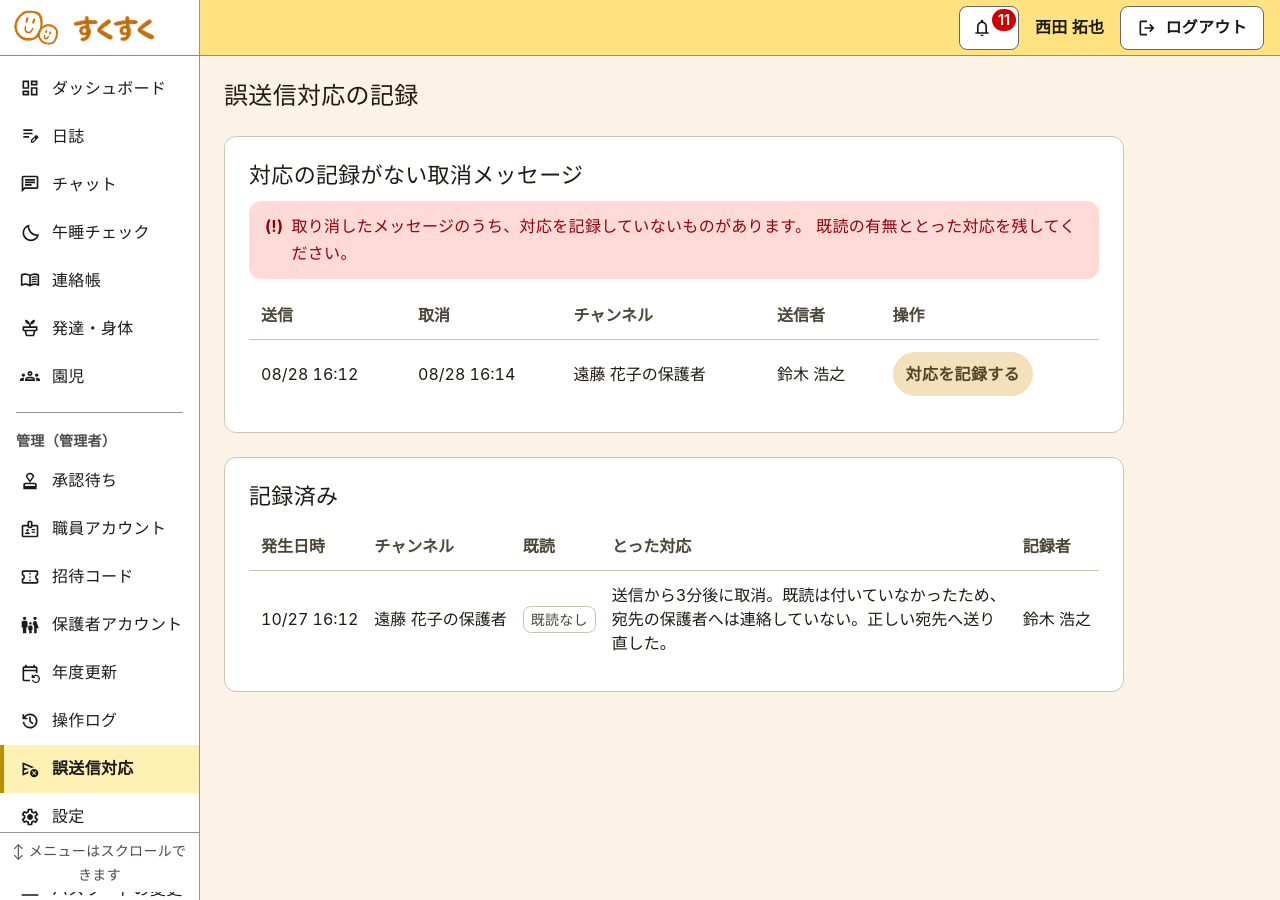
Scenario: 誤送信対応記録画面の案内（画面詳細図 4-4 項目5・項目8） › 受け取った家庭と、情報が含まれていた園児の家庭への連絡、園で判断したことを、とった対応に書くよう示す
Step 1. Click the button "対応を記録する" → (963, 374), box [893,352,1033,396]
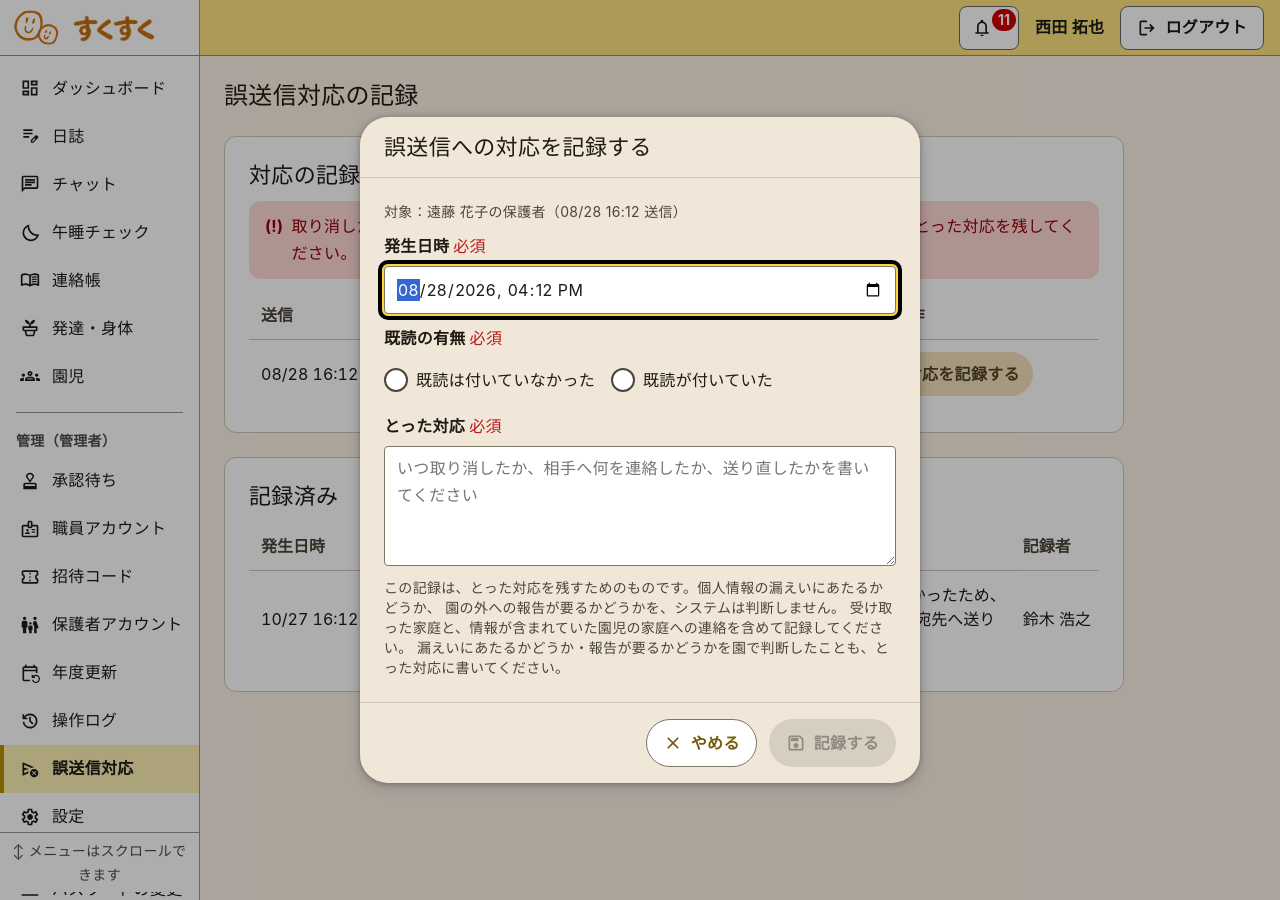
Expected: the text "目に触れた事実が消えません" is not shown
Expected: the text "システムは判断しません" shows "受け取った家庭と、情報が含まれていた園児の家庭への連絡を含めて記録してください。", [384,579,893,676]
Expected: the text "システムは判断しません" shows "漏えいにあたるかどうか・報告が要るかどうかを園で判断したことも、とった対応に書いてください。", [384,579,893,676]
Step 2. Click the radio button labelled "既読が付いていた" → (623, 380), box [611,368,635,392]
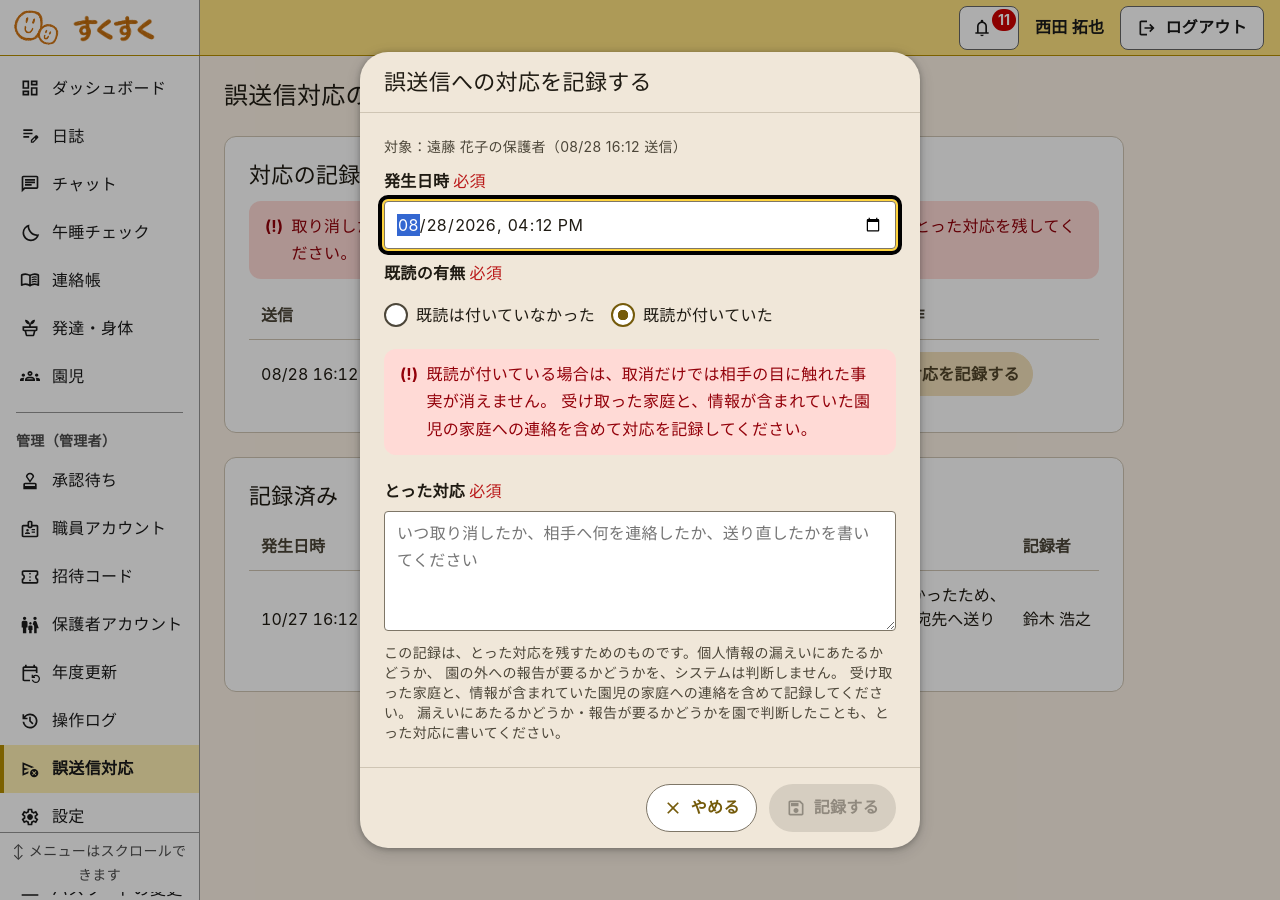
Expected: the text "目に触れた事実が消えません" shows "受け取った家庭と、情報が含まれていた園児の家庭への連絡を含めて対応を記録してください。", [426,364,870,439]
